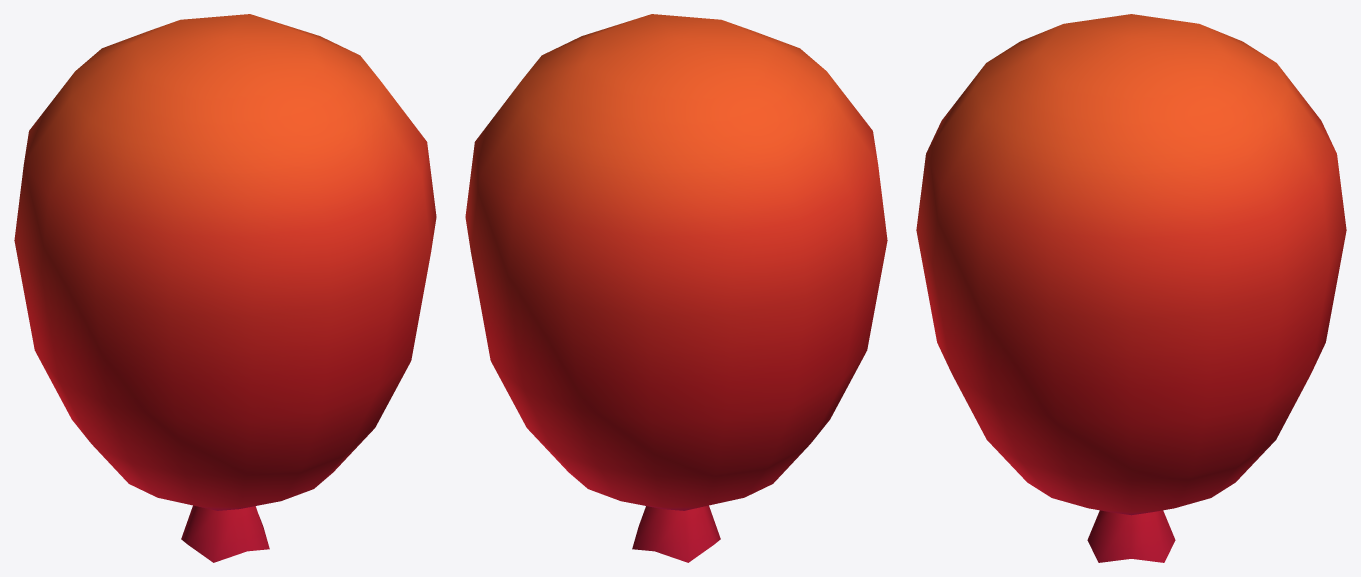
Rendered from balloon_red.obj.
The picture shows the model from 3 angles, left to right: view 1: azimuth 30°, elevation 25°; view 2: azimuth 150°, elevation 25°; view 3: azimuth 270°, elevation 25°; orthographic projection.
Visible parts, largest first — view 1: balloon_red; view 2: balloon_red; view 3: balloon_red.
Boxes of the visible parts, x1,y1,x2,y2 form: balloon_red: [14, 14, 436, 562]; balloon_red: [465, 14, 887, 562]; balloon_red: [916, 14, 1346, 562].
Bounding box in the file's own units: 0.7657 × 1 × 0.7657.
Materials: 1 (1 with a texture image).
